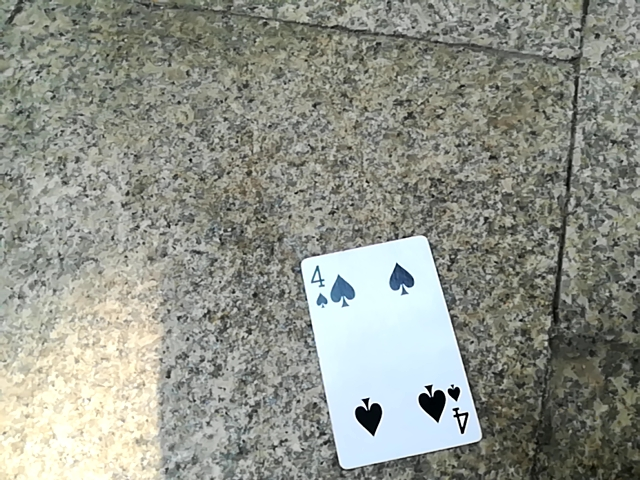ht 4: (300, 230, 475, 479)
